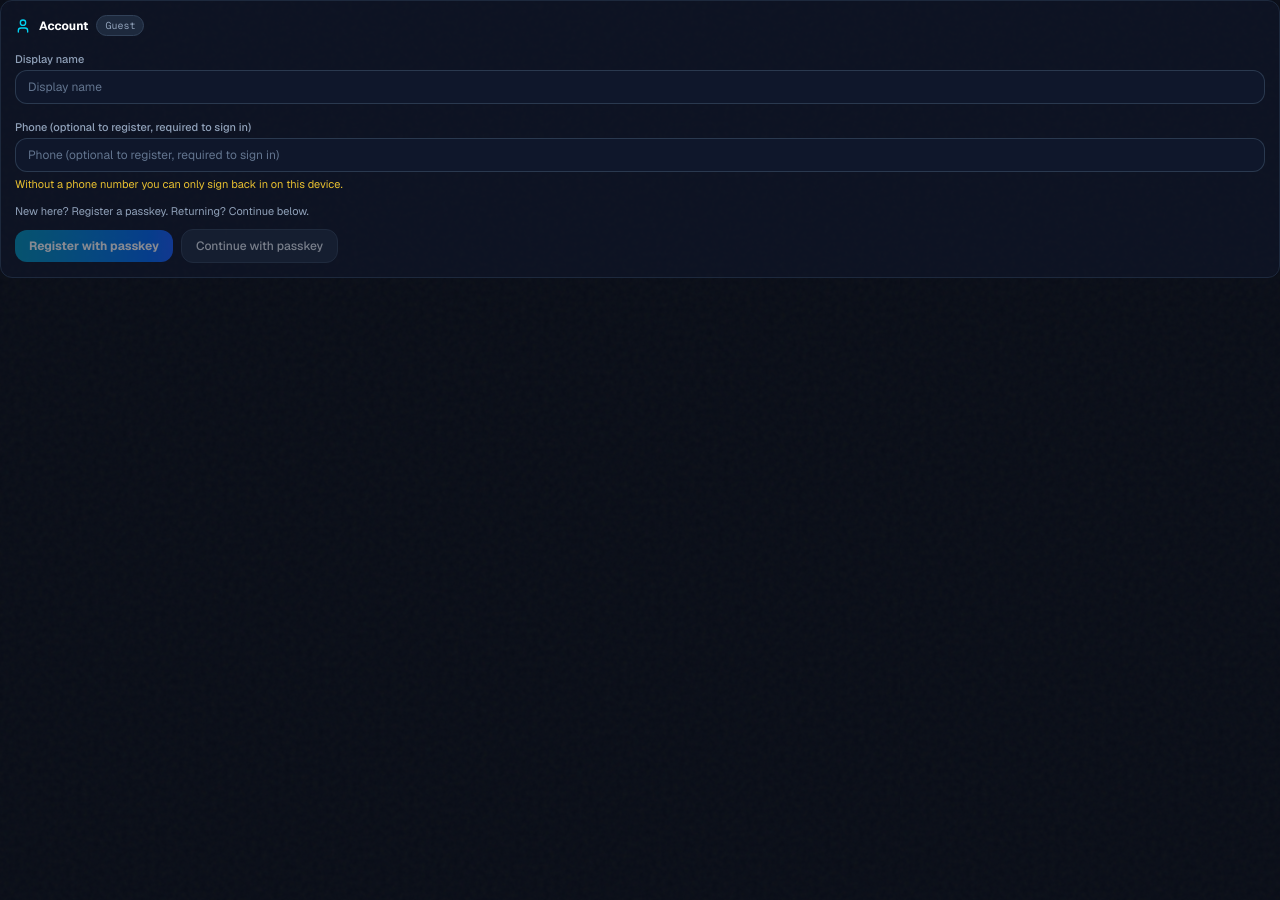
Test: account panel ceremony states › freezes the whole ceremony surface with the running action named
In the field labelled "Display name": (640, 87) [15,70,1265,104], type "Uji"
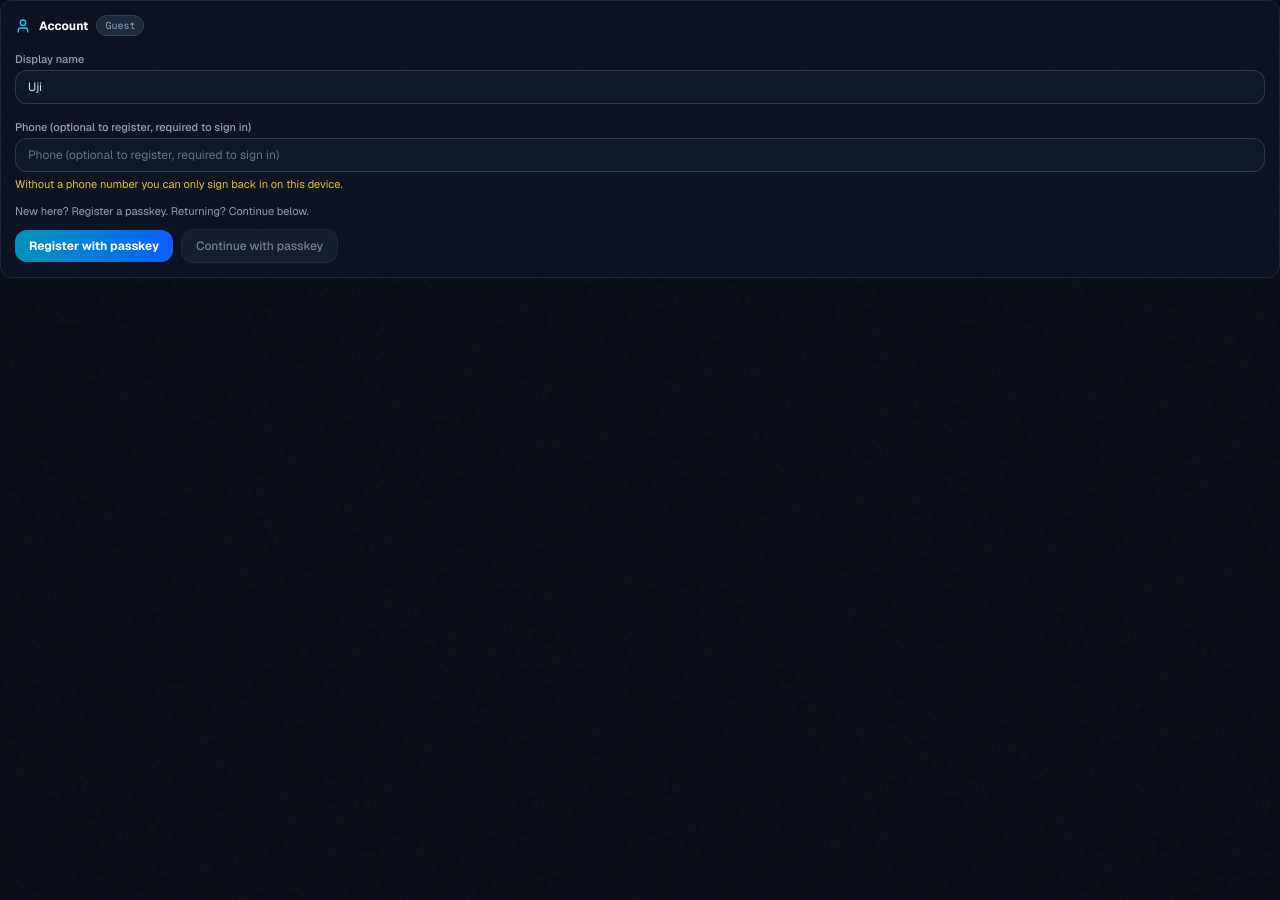
In the field labelled "Phone (optional to register, required to sign in)": (640, 155) [15,138,1265,172], type "081234567890"
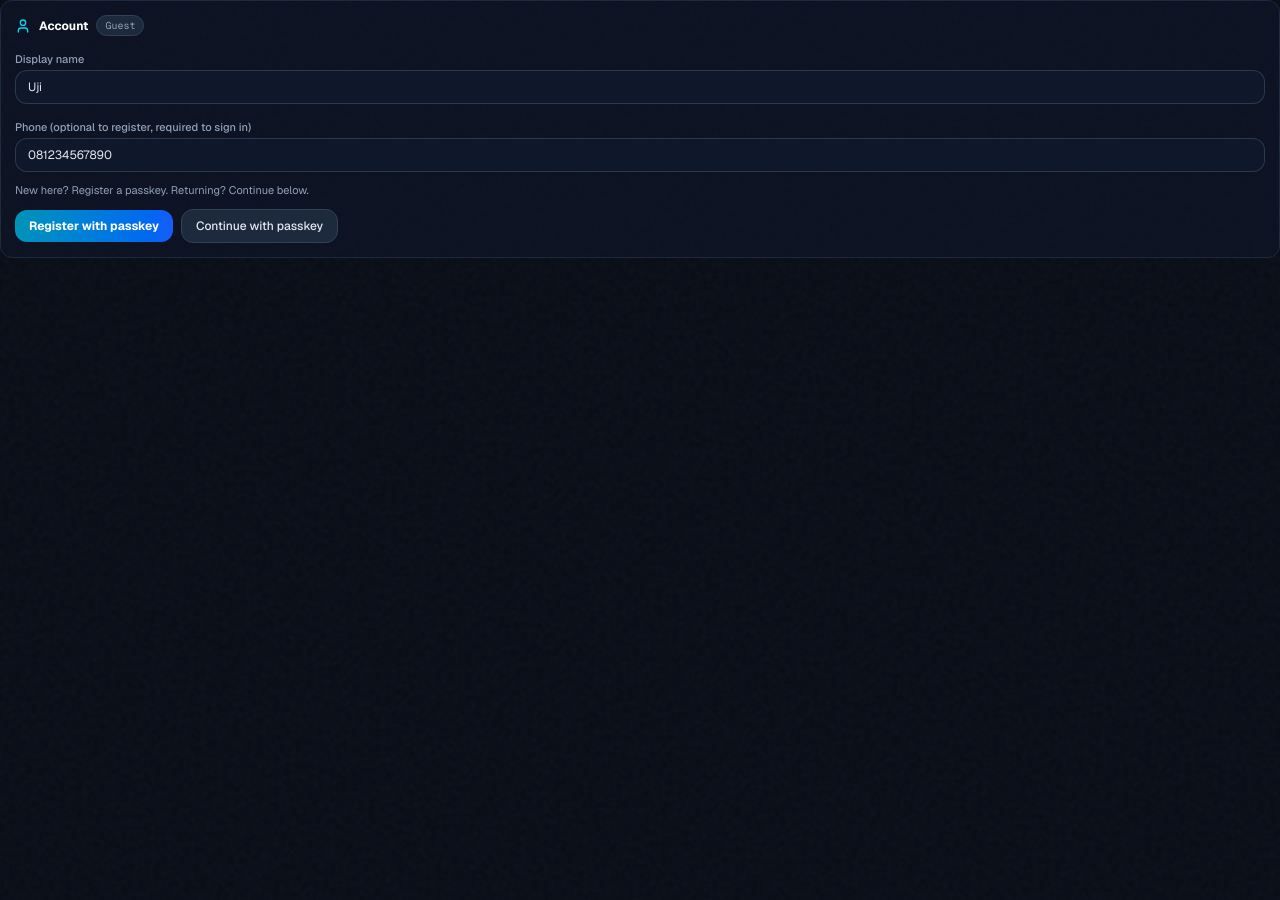
Click the button "Register with passkey": (94, 226) [15,210,173,242]
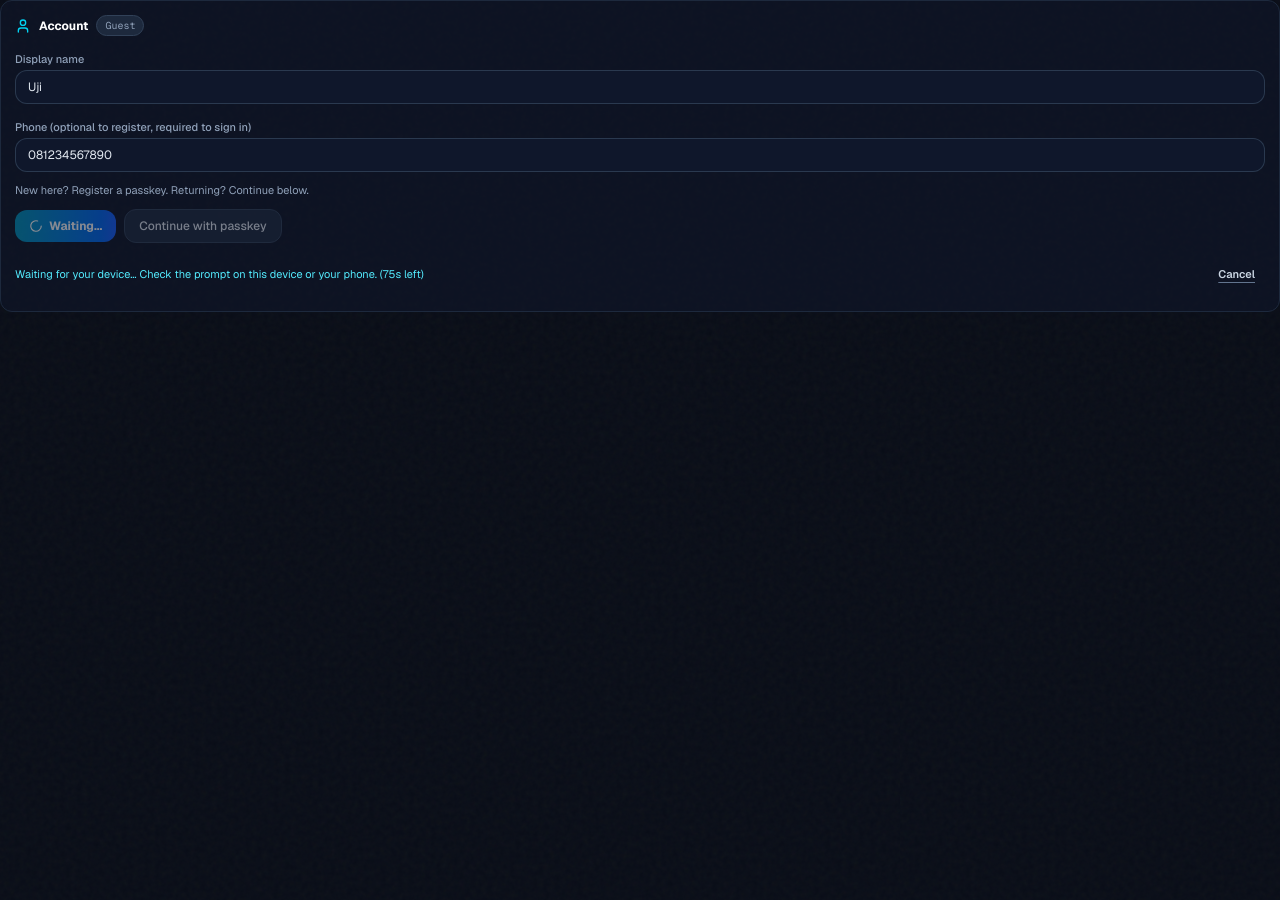
Now the button "Continue with passkey" is disabled, box [124,208,282,242]
Now the text "Waiting for your device" is shown, box [15,267,424,281]
